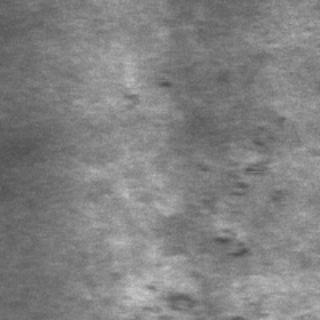rolled pit: (212, 111, 286, 259), (128, 279, 262, 317)
